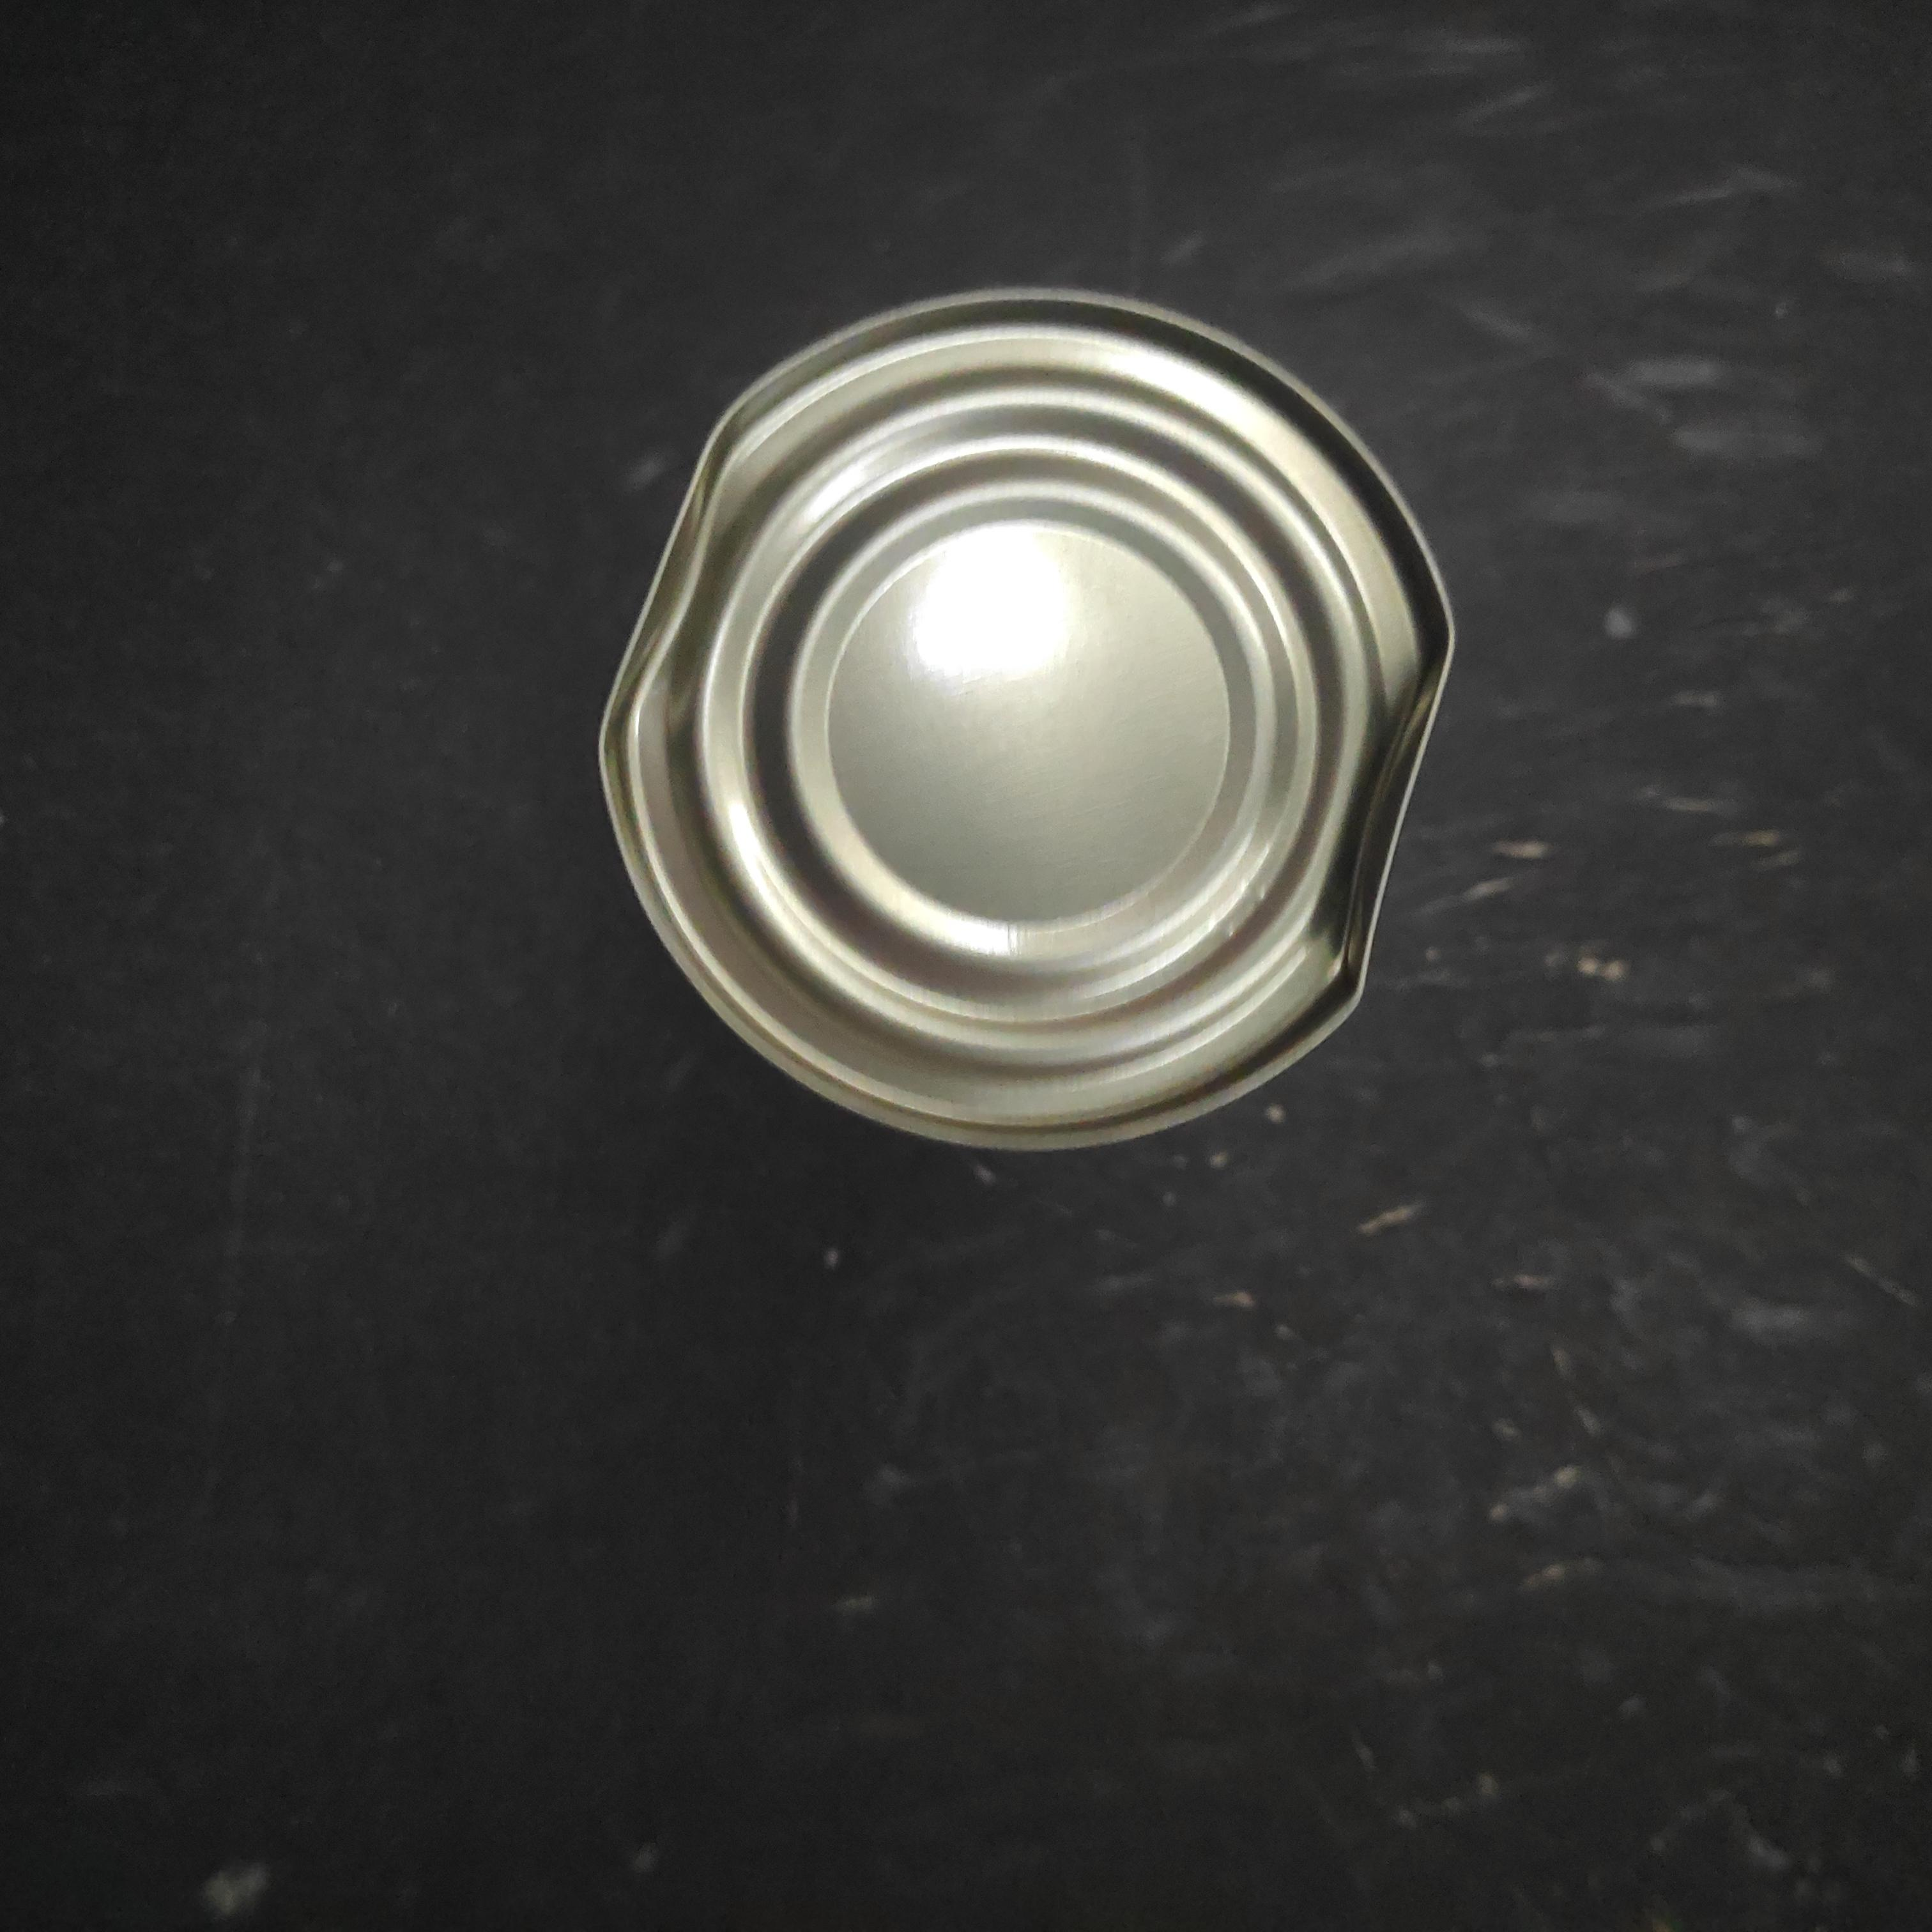Minor Defect: (471, 764, 1345, 1667)
